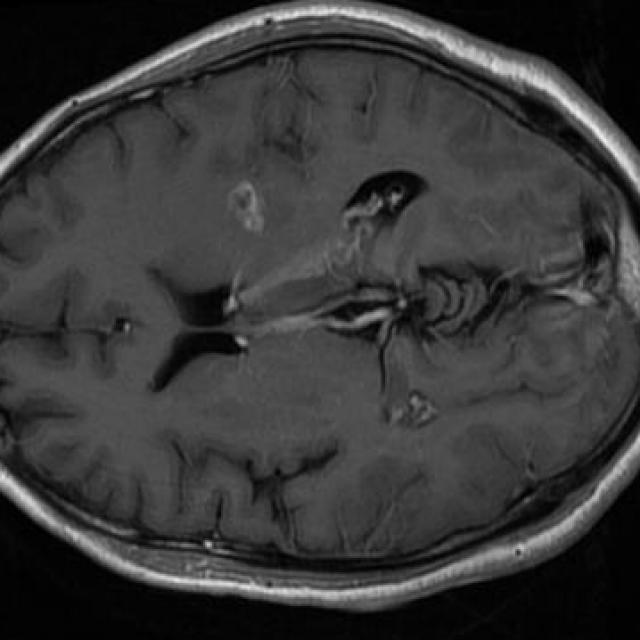glioma: (228, 184, 264, 237)
